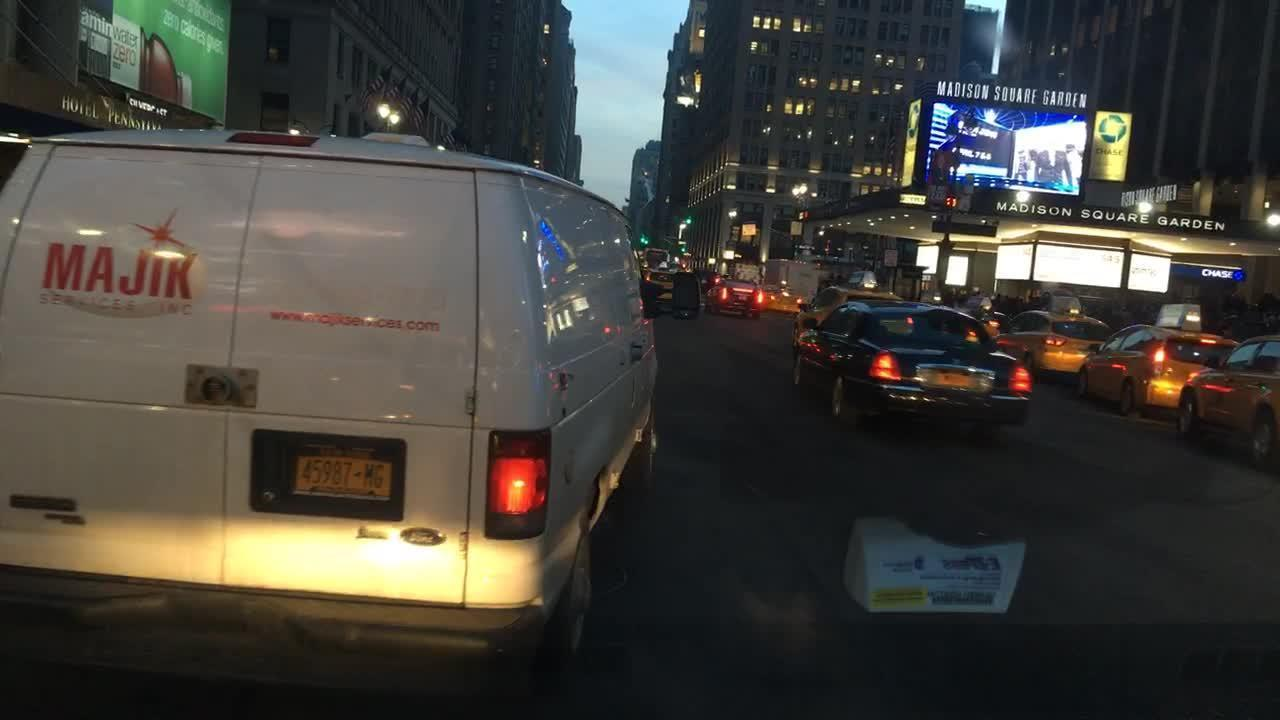ford: (400, 518, 448, 556)
